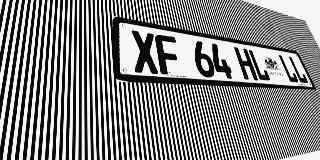4: (208, 43, 234, 79)
6: (190, 40, 217, 78)
F: (154, 34, 183, 76)
H: (234, 47, 258, 80)
L: (247, 49, 271, 81), (278, 54, 300, 83), (288, 56, 309, 84)
X: (130, 30, 160, 74)
